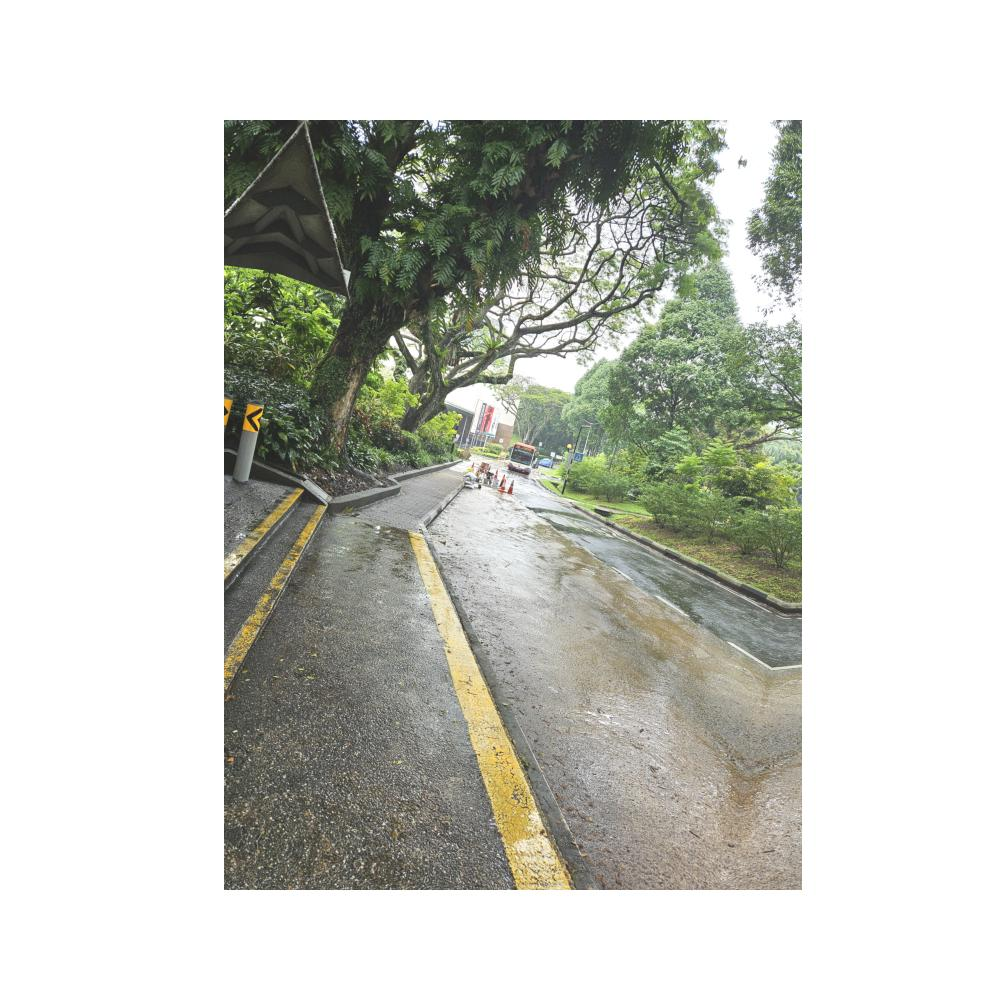bus: (505, 437, 539, 481)
